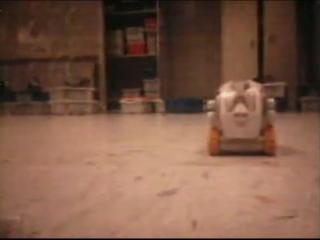cozmo: (204, 78, 281, 156)
